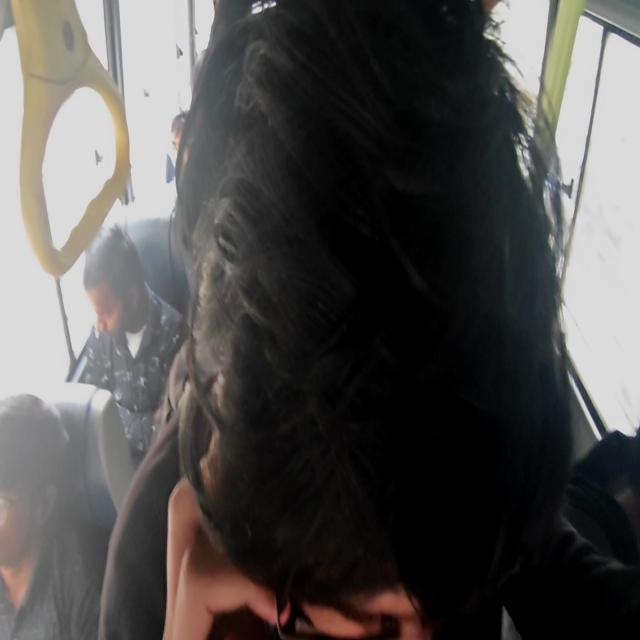person: (226, 53, 576, 640), (0, 391, 66, 537), (76, 243, 150, 335), (167, 110, 206, 170)
